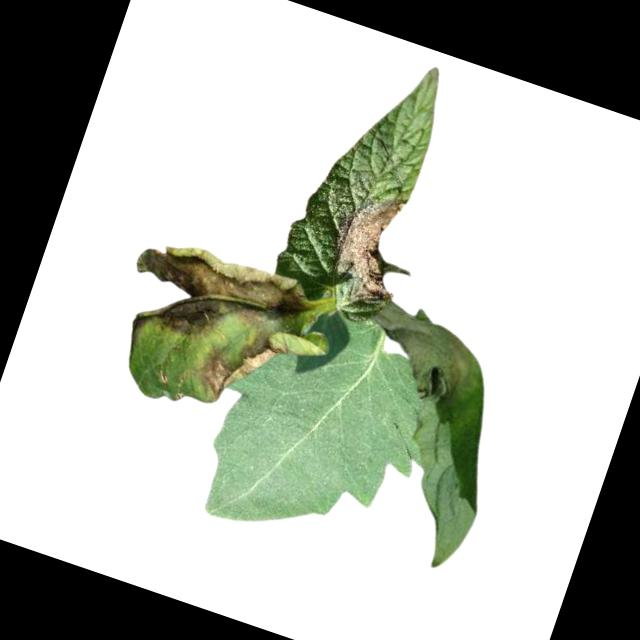Late_blight: (113, 228, 315, 385), (357, 299, 489, 412), (320, 182, 425, 310), (190, 311, 286, 417)
healthy: (185, 285, 445, 570)
